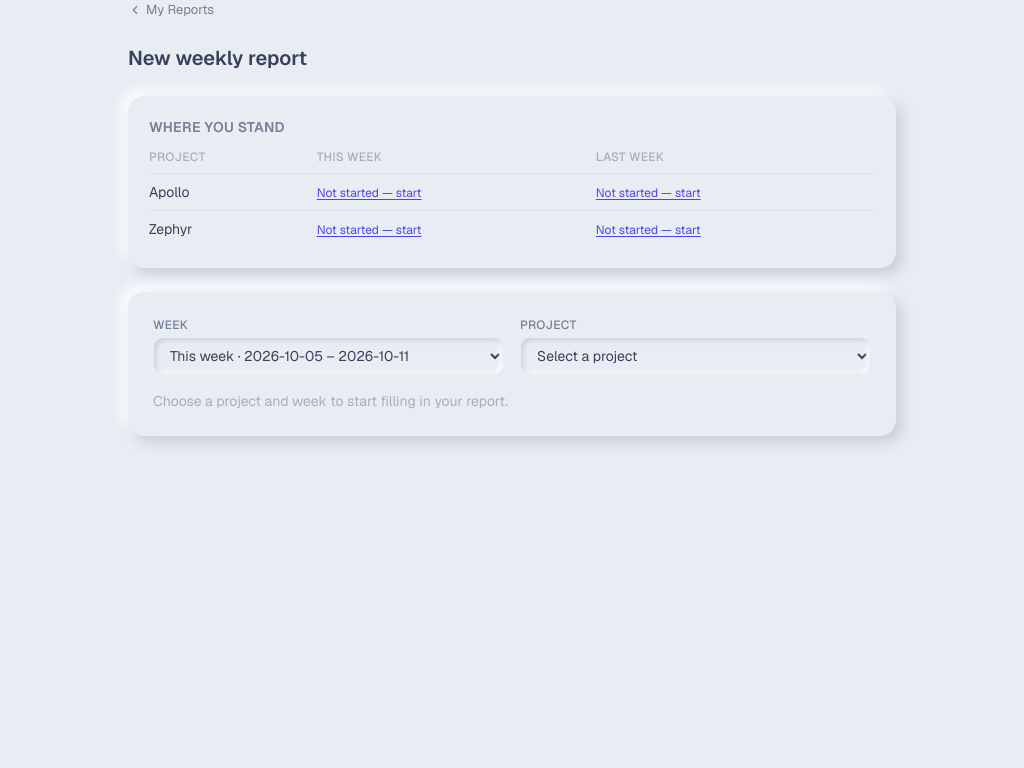
Test: NewReportPage › surfaces the backend message if the report turns out to already exist
The image size is (1024, 768).
Expected: the heading "New weekly report" is shown, 128,44 -> 307,70
Select "Zephyr" in the dropdown labelled "Project" at {"x": 696, "y": 356}, box 520,336 -> 871,374
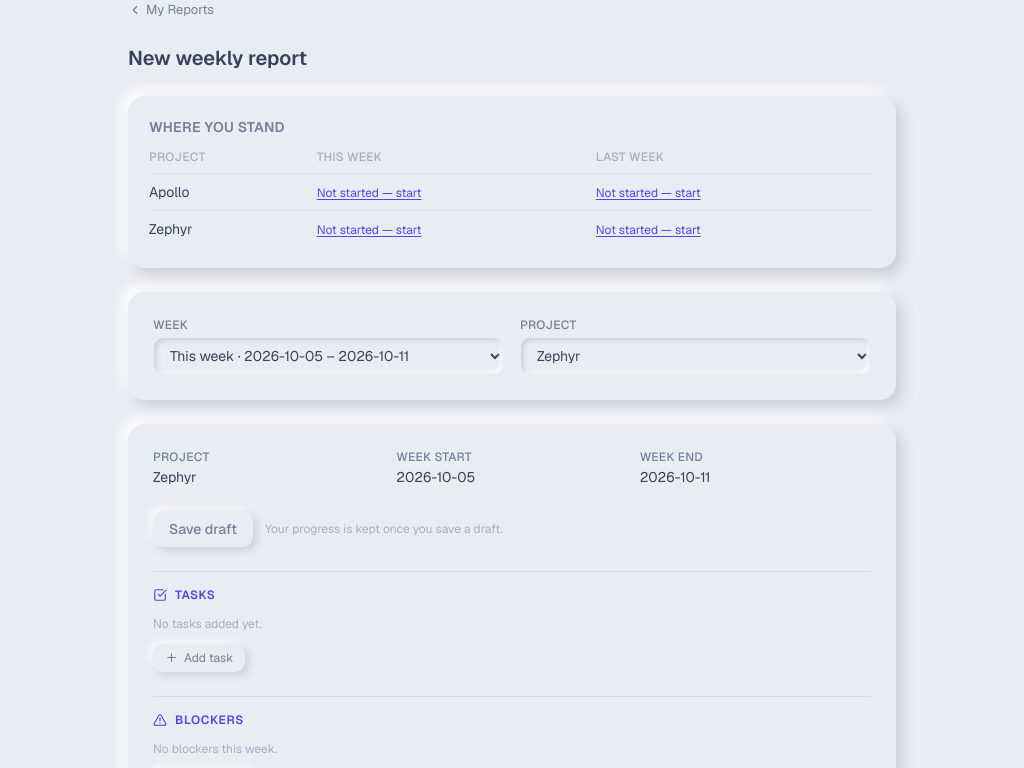
Click the button "Save draft" at {"x": 203, "y": 528}, box 153,510 -> 253,546
(page scrolled)
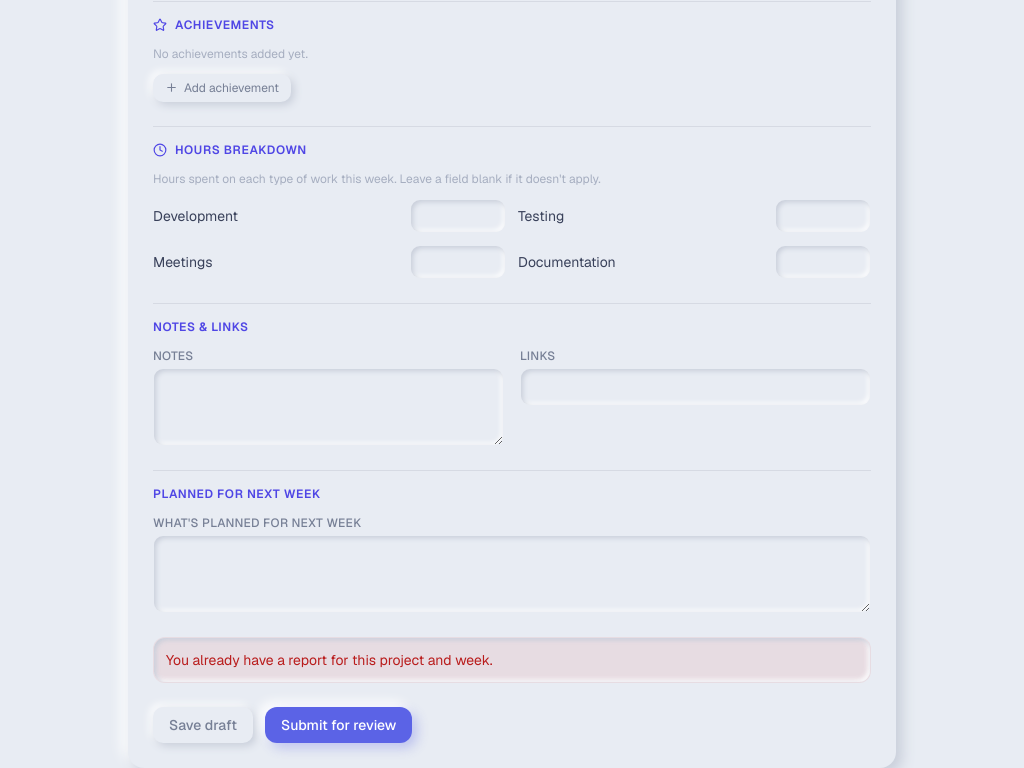
Now the text "You already have a report for this project and week." is shown, box 153,636 -> 871,682
